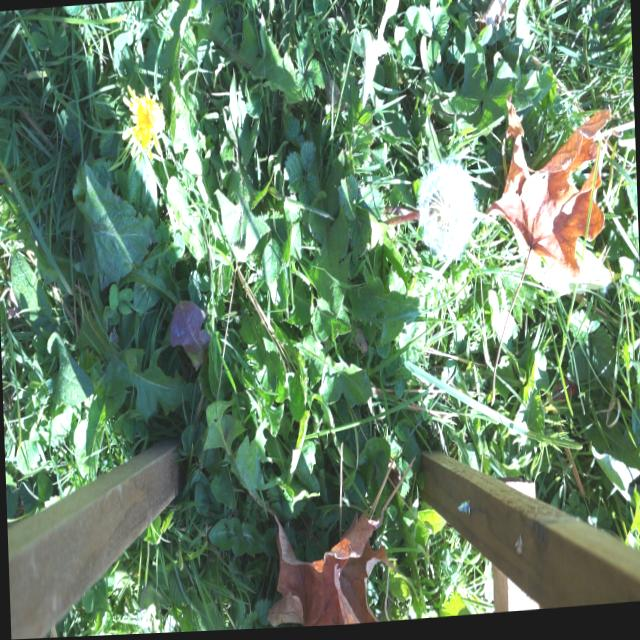base: (375, 209, 395, 242)
flower: (416, 160, 476, 260), (122, 86, 166, 152)
